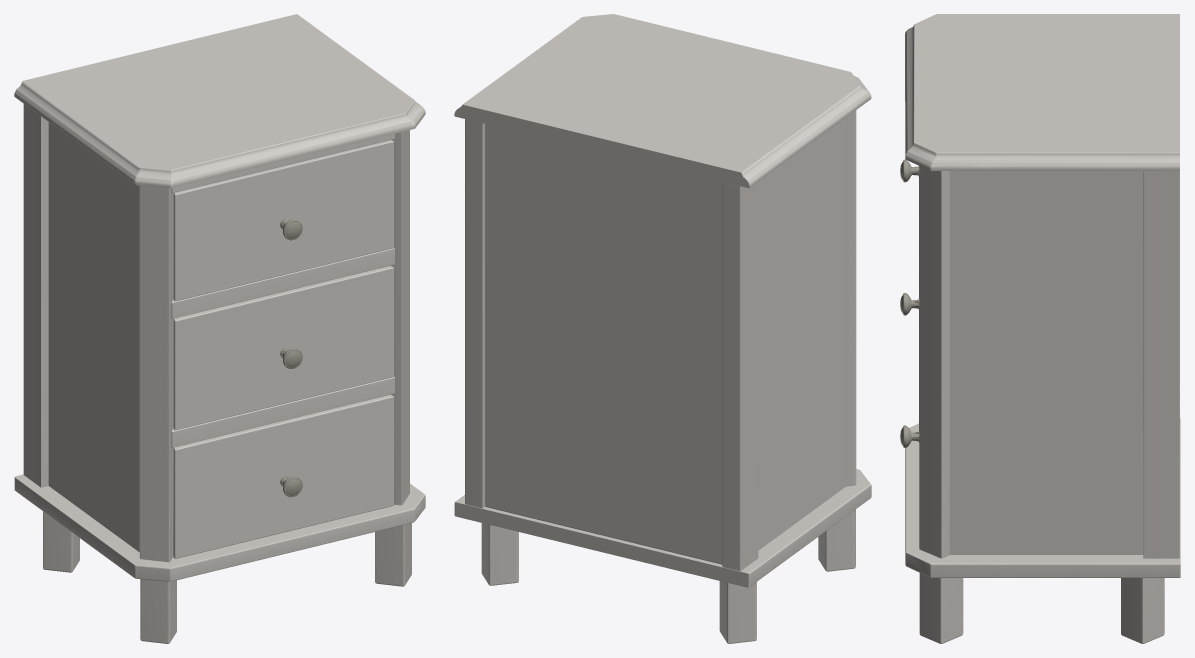
Rendered from B07DBDZC9N.glb.
3 renders of one model, left to right at view 1: azimuth 30°, elevation 25°; view 2: azimuth 150°, elevation 25°; view 3: azimuth 270°, elevation 25°, orthographic. The views are drawn at different scales.
Parts seen in each view (by area): view 1: RootNode; view 2: RootNode; view 3: RootNode.
Boxes of the visible parts, box(x1,y1,x2,y2) form: RootNode: box(14, 14, 425, 643); RootNode: box(454, 14, 871, 643); RootNode: box(900, 14, 1180, 643).
Bounding box in the file's own units: 0.435 × 0.6808 × 0.3512.
1 material, 1 textured.
